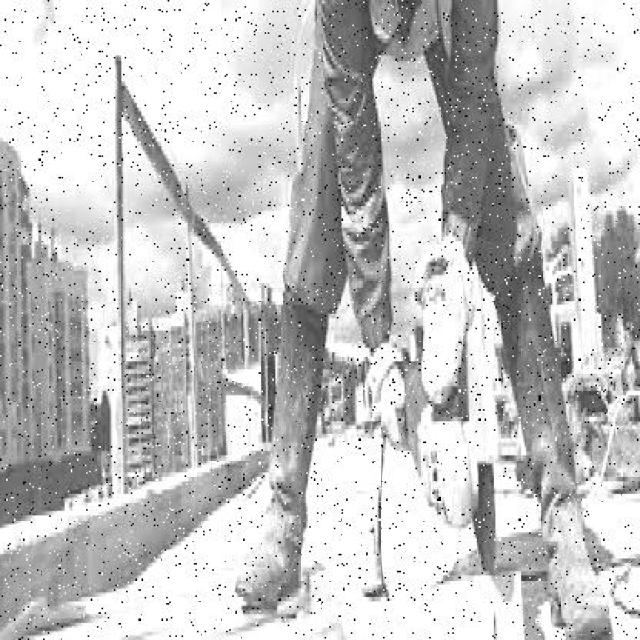shoes: (494, 288, 615, 640), (239, 307, 316, 621)
